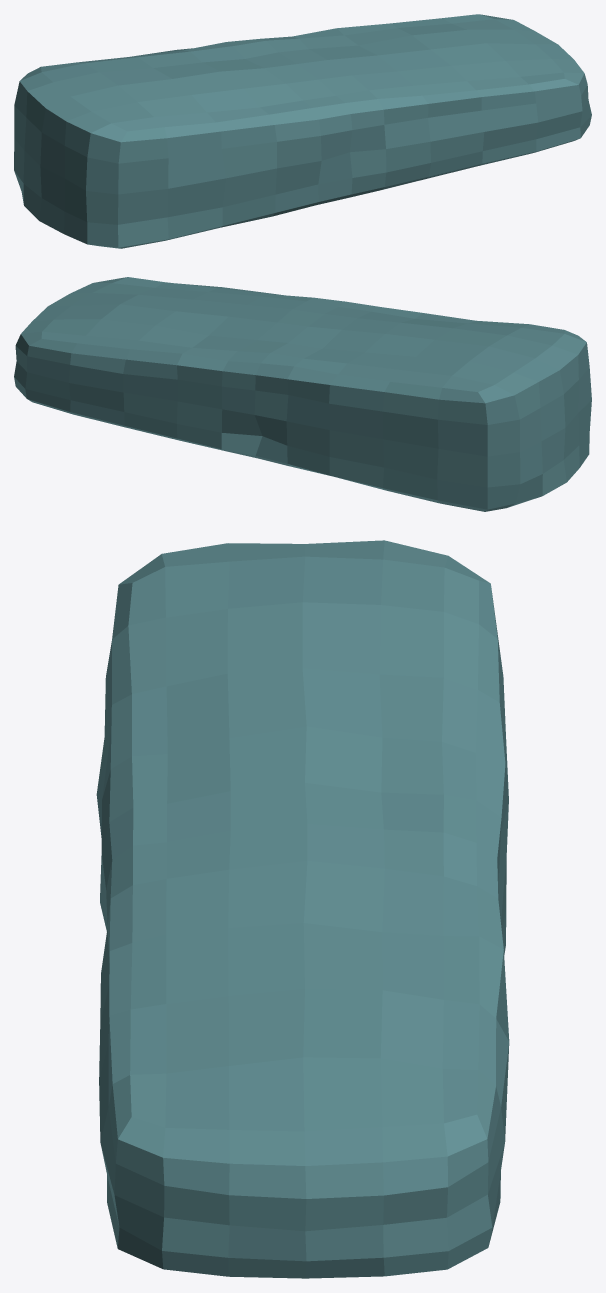
File: Rock_Grass_02_Lod1.fbx
The picture shows the model from 3 angles, top to bottom: view 1: azimuth 30°, elevation 25°; view 2: azimuth 150°, elevation 25°; view 3: azimuth 270°, elevation 25°; orthographic projection. The views are drawn at different scales.
Visible parts, largest first — view 1: Rock_Grass_02_Lod1; view 2: Rock_Grass_02_Lod1; view 3: Rock_Grass_02_Lod1.
Part boxes in pixels (x1=…): Rock_Grass_02_Lod1: x1=14, y1=14, x2=591, y2=248; Rock_Grass_02_Lod1: x1=14, y1=277, x2=591, y2=511; Rock_Grass_02_Lod1: x1=96, y1=540, x2=509, y2=1278.
Bounding box in the file's own units: 1037 × 233 × 352.
